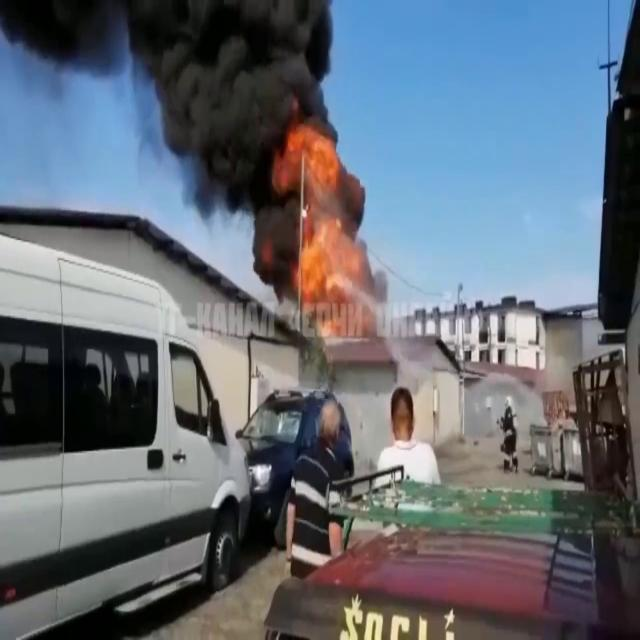Fire: (276, 129, 386, 339)
Smoke: (134, 0, 332, 213)
